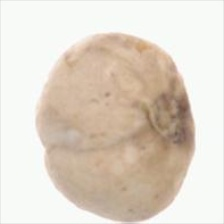L4: (35, 32, 195, 221)
